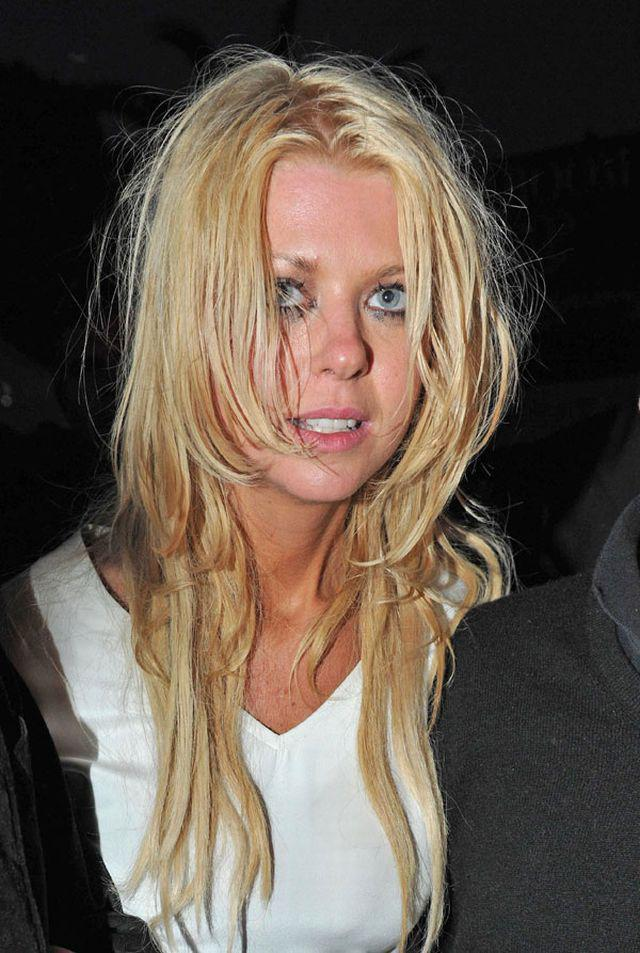Drunk: (253, 160, 422, 500)
